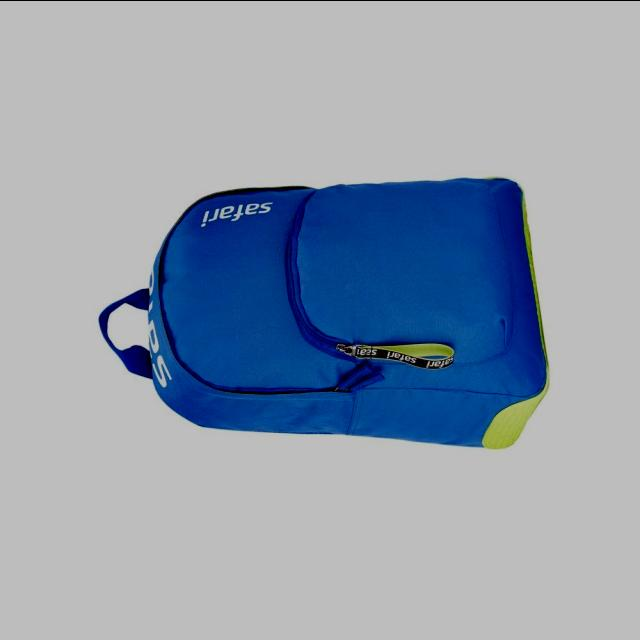backpack: (98, 177, 550, 451)
